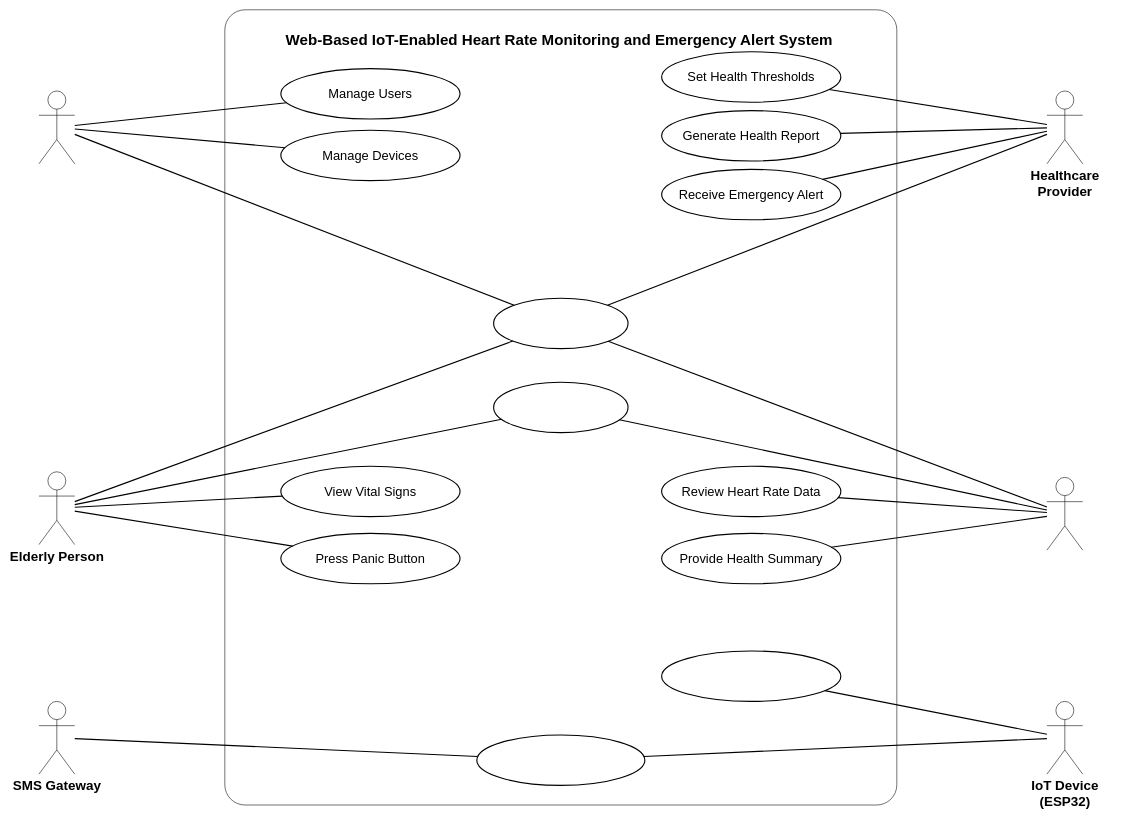
Some shapes in this 1123 by 820 pixel diagram are drawn without their labels. The centre of each missing label's shape, as x and y in pixels:
Admin: the point at 56,127
Caregiver / Family Member: the point at 1064,513
Login: the point at 560,323
Monitor Heart Rate: the point at 751,676
Register: the point at 560,407
Send Alerts: the point at 560,760
